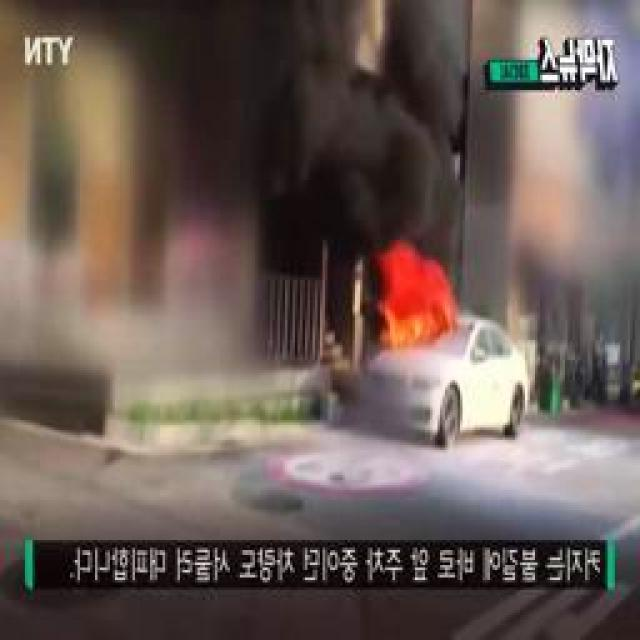Fire: (383, 250, 446, 344)
